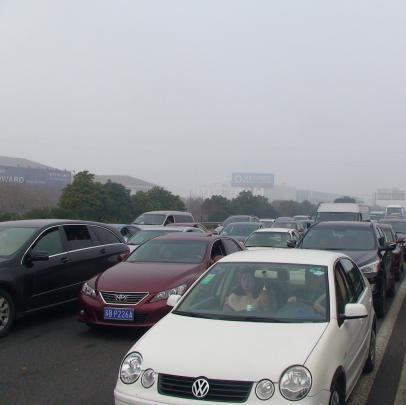car: (111, 244, 374, 405), (76, 234, 246, 335), (1, 214, 128, 331), (279, 217, 396, 315), (127, 224, 210, 263), (310, 201, 371, 246), (360, 219, 405, 278), (129, 208, 197, 243), (86, 221, 140, 265), (240, 225, 298, 261), (220, 221, 266, 246), (212, 212, 261, 235)
